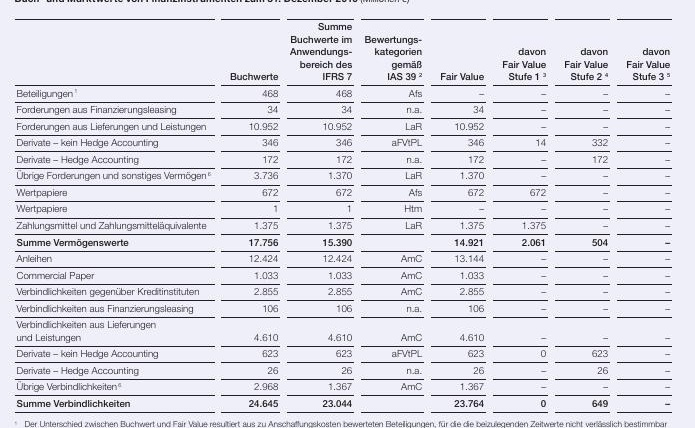table: (0, 0, 695, 428)
